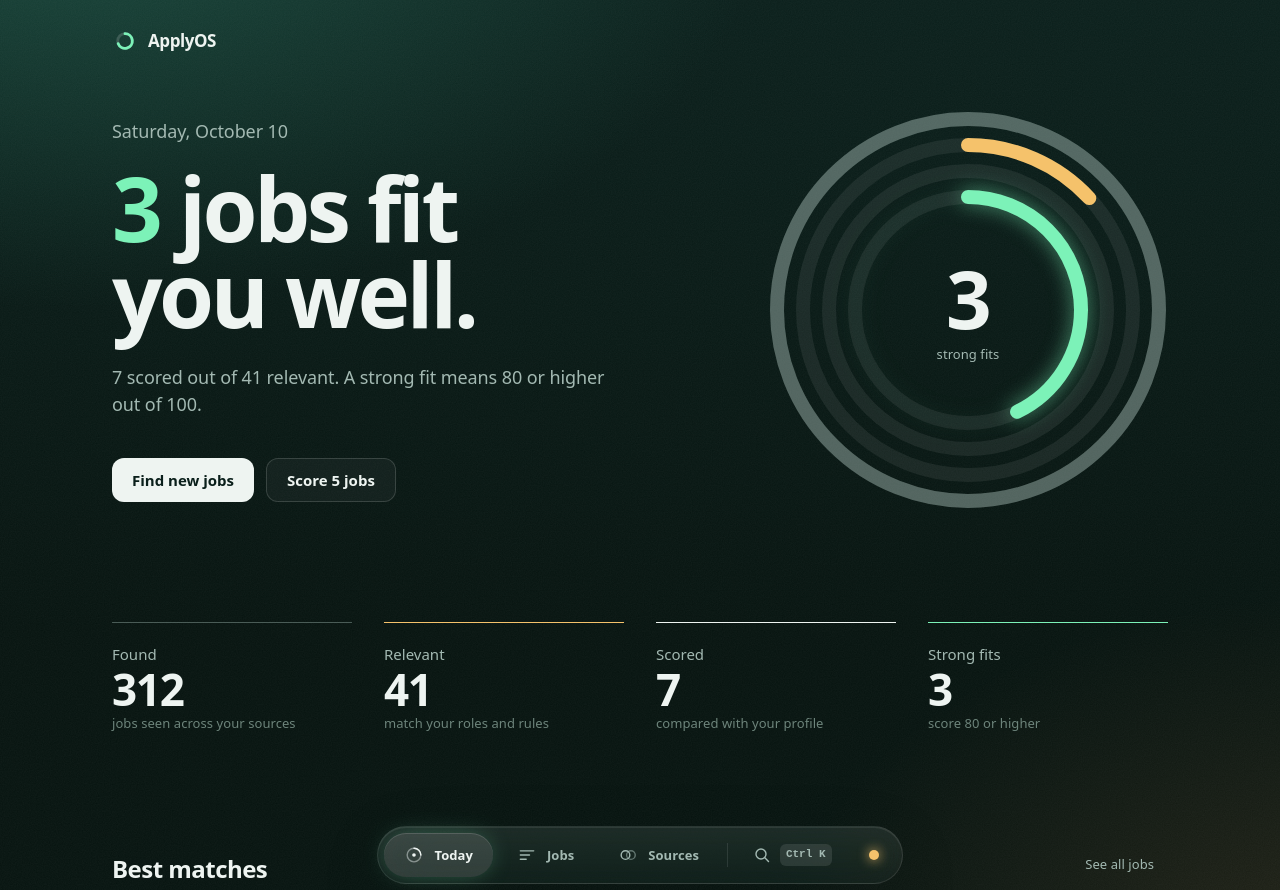
Shell › moves between pages from the dock
Click the link "Jobs": x=546, y=855 x1=517 y1=845 x2=574 y2=865
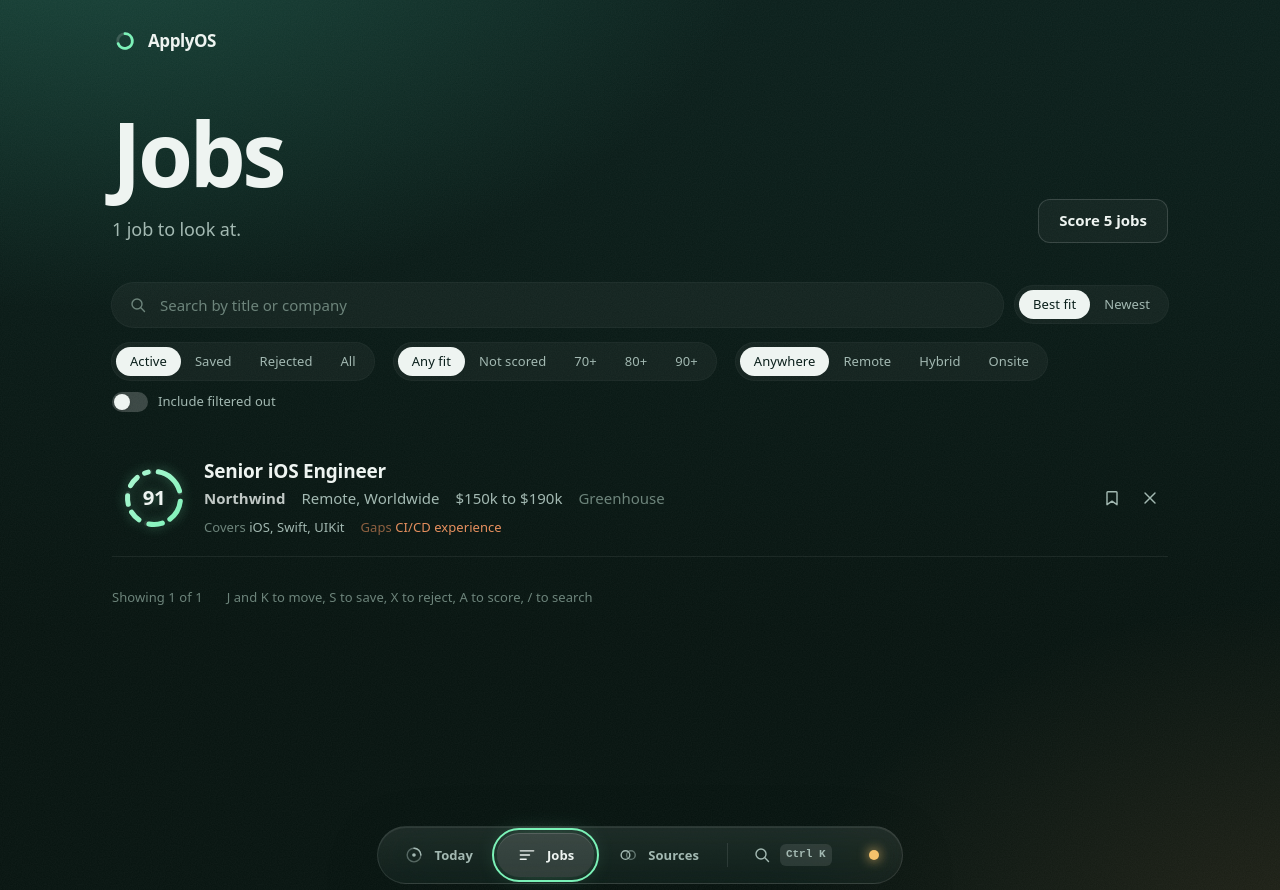
expect the heading "Jobs" is shown: met, box x1=112 y1=110 x2=283 y2=196
Click the link "Sources": x=659, y=855 x1=618 y1=845 x2=699 y2=865
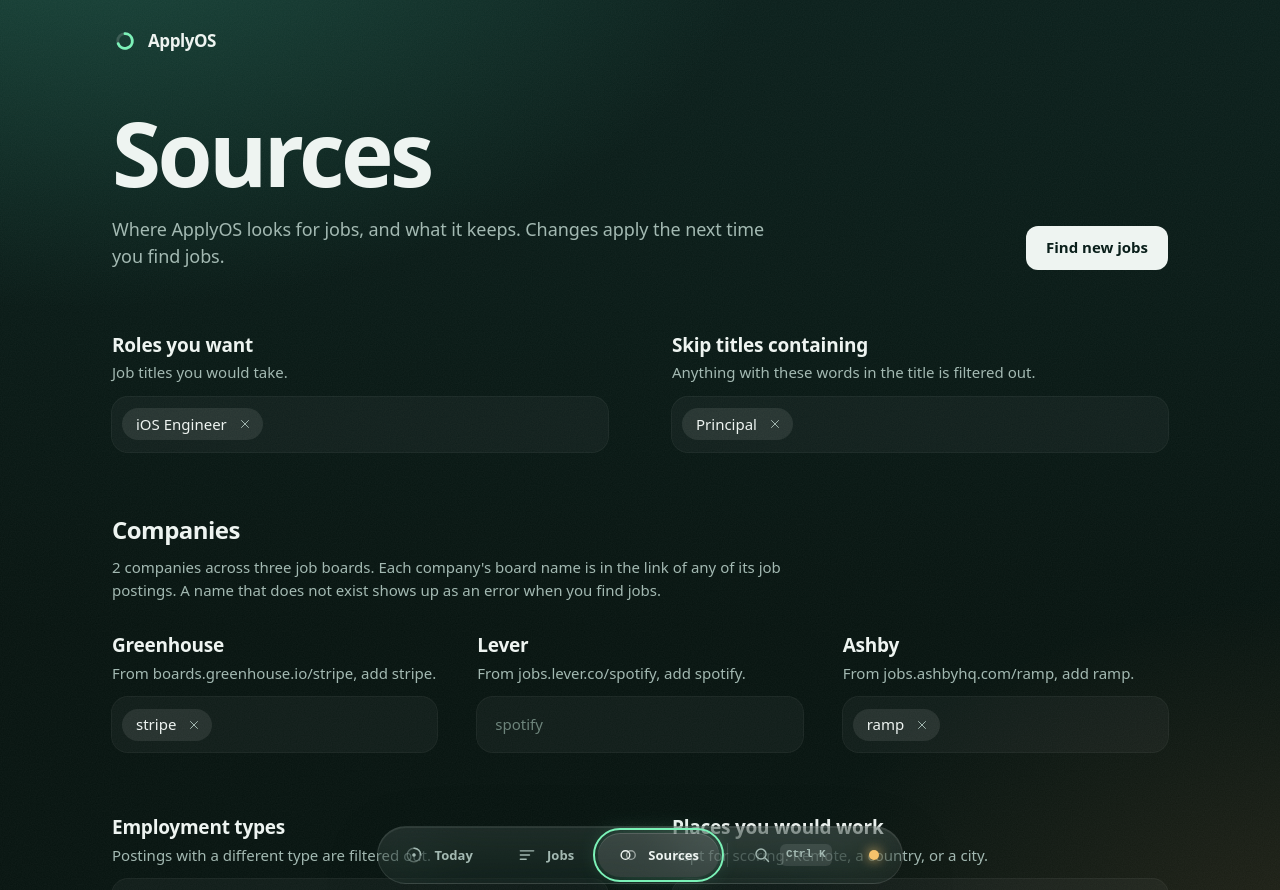
expect the heading "Sources" is shown: met, box x1=112 y1=92 x2=431 y2=213
